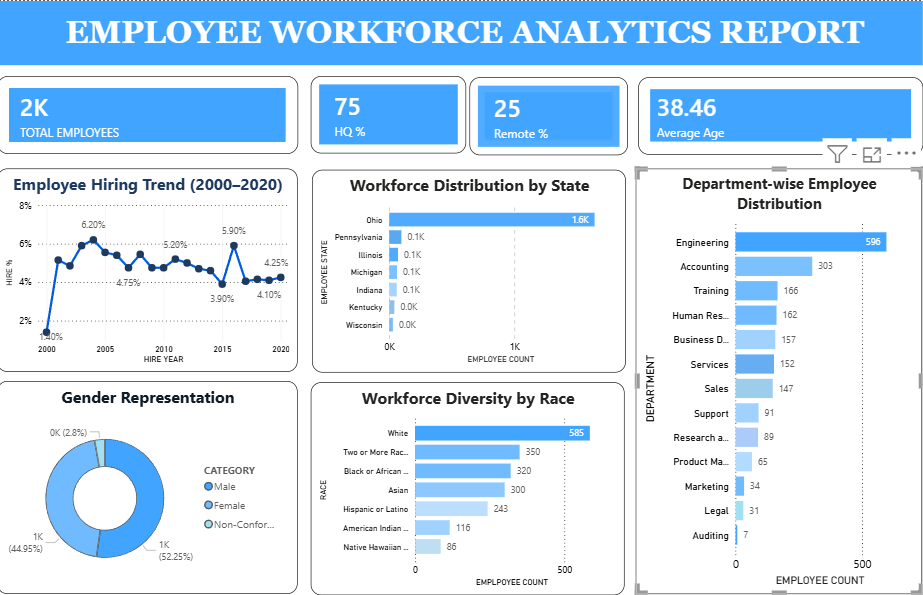

Layout of this report page (visuals, bound fields, positions):
{"tool":"powerbi","page":{"name":"DASH BOARD ","canvas":[1292,809],"ordinal":7},"visuals":[{"type":"textbox","box":[20,0,1234.3,85.7],"z":0},{"type":"cardVisual","fields":{"Data":["HR_ANALYTICS_CLEANEDDATA.TOTAL EMPLOYEES"]},"box":[20,100,401.4,104.3],"z":1000},{"type":"cardVisual","fields":{"Data":["HR_ANALYTICS_CLEANEDDATA.HQ %"]},"box":[438.6,100,207.1,102.9],"z":2000},{"type":"textbox","box":[10,304,250,150],"z":3000},{"type":"cardVisual","fields":{"Data":["HR_ANALYTICS_CLEANEDDATA.Remote %"]},"box":[650,101.4,211.4,104.3],"z":4000},{"type":"cardVisual","fields":{"Data":["HR_ANALYTICS_CLEANEDDATA.Average Age"]},"box":[874.3,101.4,380,102.9],"z":5000},{"type":"lineChart","title":"Employee Hiring Trend (2000–2020)","fields":{"Category":["HR_ANALYTICS_CLEANEDDATA.Hire Year"],"Y":["CountNonNull(HR_ANALYTICS_CLEANEDDATA.hire_date)"]},"box":[443.2,506.9,418.3,283.9],"z":6000},{"type":"donutChart","title":"Gender Representation","fields":{"Category":["HR_ANALYTICS_CLEANEDDATA.gender"],"Y":["HR_ANALYTICS_CLEANEDDATA.Employee Count"]},"box":[19.6,507.4,401.1,283.7],"z":7000},{"type":"clusteredBarChart","title":"Workforce Distribution by State","fields":{"Y":["HR_ANALYTICS_CLEANEDDATA.Employee Count"],"Category":["HR_ANALYTICS_CLEANEDDATA.location_state"]},"box":[440,224.3,418.6,270],"z":8000},{"type":"clusteredBarChart","title":"Department-wise Employee Distribution","fields":{"Y":["HR_ANALYTICS_CLEANEDDATA.Employee Count"],"Category":["HR_ANALYTICS_CLEANEDDATA.department"]},"box":[872.2,223.6,381.6,567.5],"z":9000},{"type":"clusteredBarChart","title":"Workforce Diversity by Race","fields":{"Y":["HR_ANALYTICS_CLEANEDDATA.Employee Count"],"Category":["HR_ANALYTICS_CLEANEDDATA.race"]},"box":[20,217.1,401.4,277.1],"z":10000}]}

Visuals, with their boxes in screenshot pixels (x1, y1, x2, y2), scaled from the page's 1292x809 canvas onto the 923x595 screenshot:
textbox: [14, 0, 896, 63]
cardVisual - HR_ANALYTICS_CLEANEDDATA.TOTAL EMPLOYEES: [14, 74, 301, 150]
cardVisual - HR_ANALYTICS_CLEANEDDATA.HQ %: [313, 74, 461, 149]
textbox: [7, 224, 186, 334]
cardVisual - HR_ANALYTICS_CLEANEDDATA.Remote %: [464, 75, 615, 151]
cardVisual - HR_ANALYTICS_CLEANEDDATA.Average Age: [625, 75, 896, 150]
"Employee Hiring Trend (2000–2020)" lineChart: [317, 373, 615, 582]
"Gender Representation" donutChart: [14, 373, 301, 582]
"Workforce Distribution by State" clusteredBarChart: [314, 165, 613, 364]
"Department-wise Employee Distribution" clusteredBarChart: [623, 164, 896, 582]
"Workforce Diversity by Race" clusteredBarChart: [14, 160, 301, 363]
